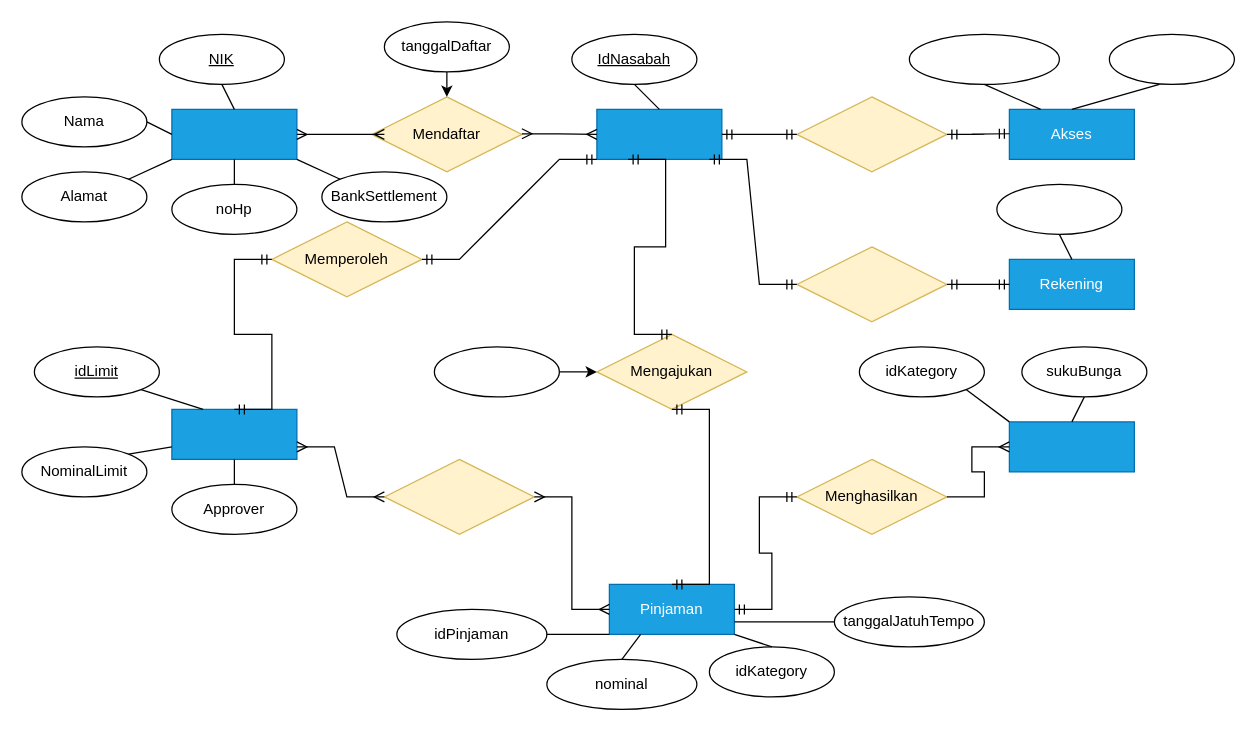
The diagram is 1256 pixels wide and 731 high, and some of its shapes have lost their labels. The shapes that lost their labels are listed below. From the top down, each one's box as (x1, y1, x2, y2) in pixels, then its label:
(908, 33, 1059, 84): idAkses
(1108, 33, 1234, 84): kodeAkses
(171, 108, 297, 159): User
(596, 108, 722, 159): Nasabah
(796, 96, 947, 172): Memiliki
(996, 183, 1122, 234): NoRekening
(796, 246, 947, 322): Mendapat
(433, 346, 559, 397): tanggalPengajuan
(171, 408, 297, 459): Limit Pinjam
(1008, 421, 1134, 472): Bunga
(383, 458, 534, 534): Mengatur
